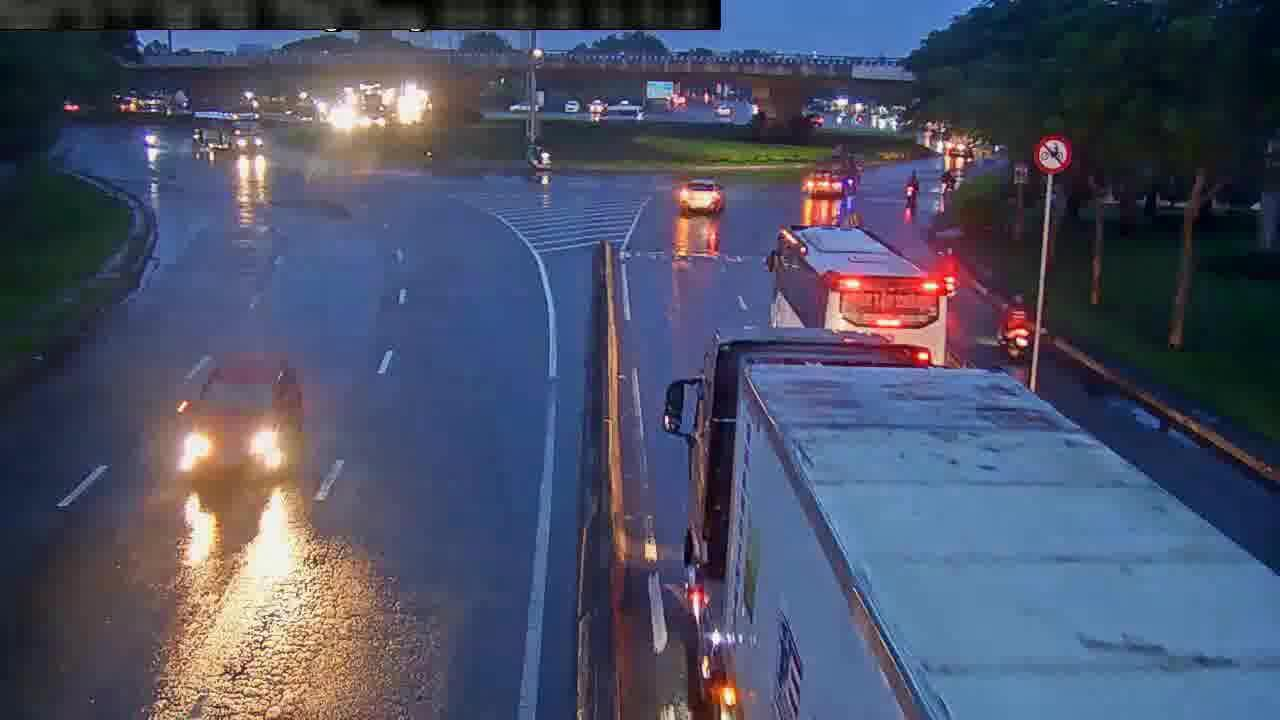14: (762, 220, 947, 369)
8: (653, 323, 1276, 720), (801, 152, 861, 202)
container: (178, 352, 303, 487), (676, 175, 727, 217)
motorbike: (994, 290, 1029, 362), (902, 167, 925, 207)
